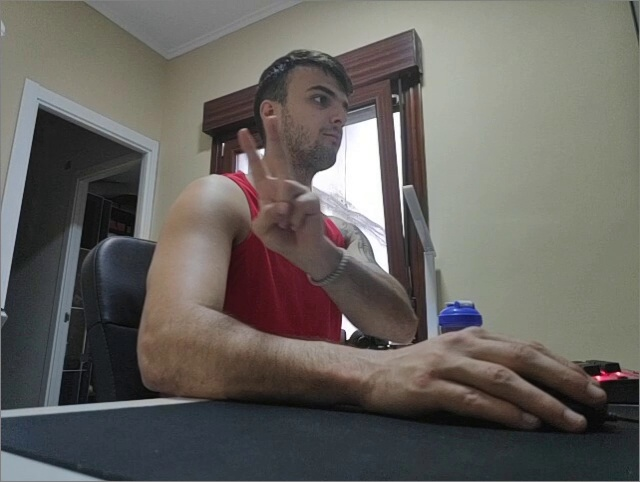Peace: (233, 115, 323, 258)
